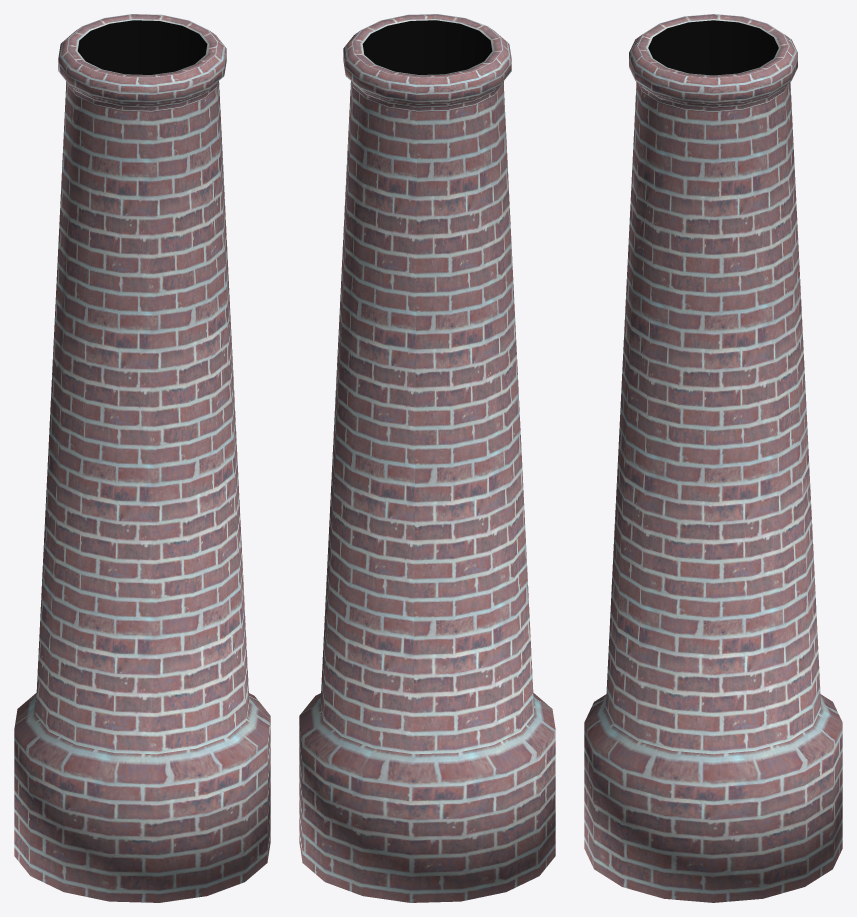
Rendered from chimney.fbx.
The picture shows the model from 3 angles, left to right: view 1: azimuth 30°, elevation 25°; view 2: azimuth 150°, elevation 25°; view 3: azimuth 270°, elevation 25°; orthographic projection.
Visible parts, largest first — view 1: Cylinder; view 2: Cylinder; view 3: Cylinder.
Boxes of the visible parts, x1,y1,x2,y2 form: Cylinder: [14, 14, 270, 902]; Cylinder: [299, 14, 555, 902]; Cylinder: [584, 14, 842, 902].
Size of the model in its own units: 336 by 1150 by 336.
